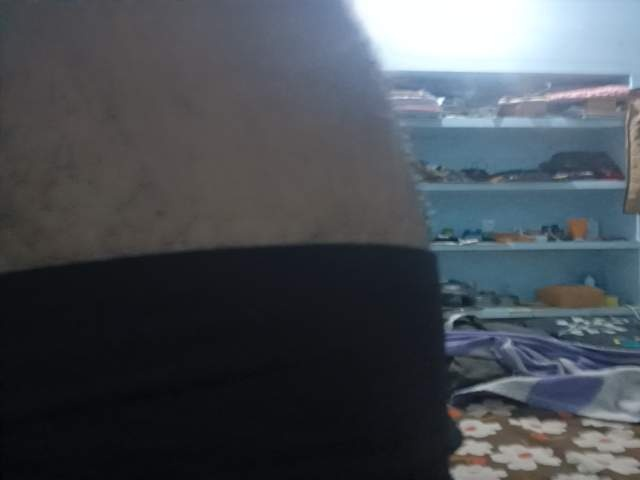pothole: (255, 366, 640, 480)
